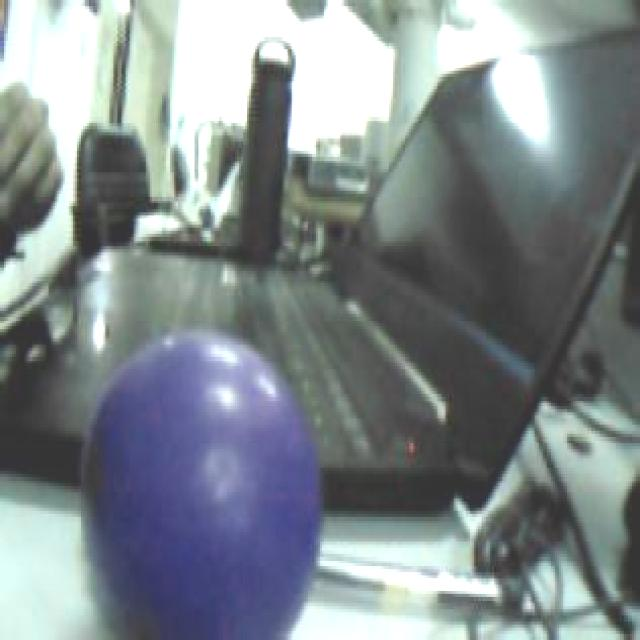BallPurple: (87, 326, 320, 640)
